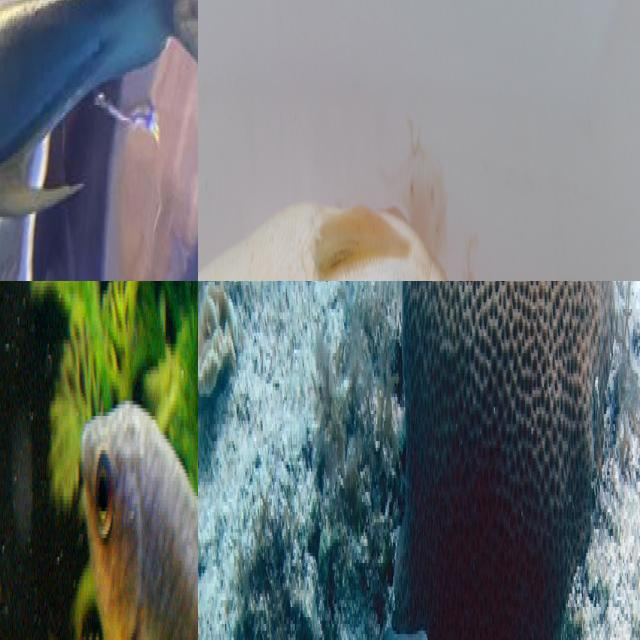fish: (198, 128, 640, 281), (0, 0, 198, 281), (295, 607, 434, 640)
